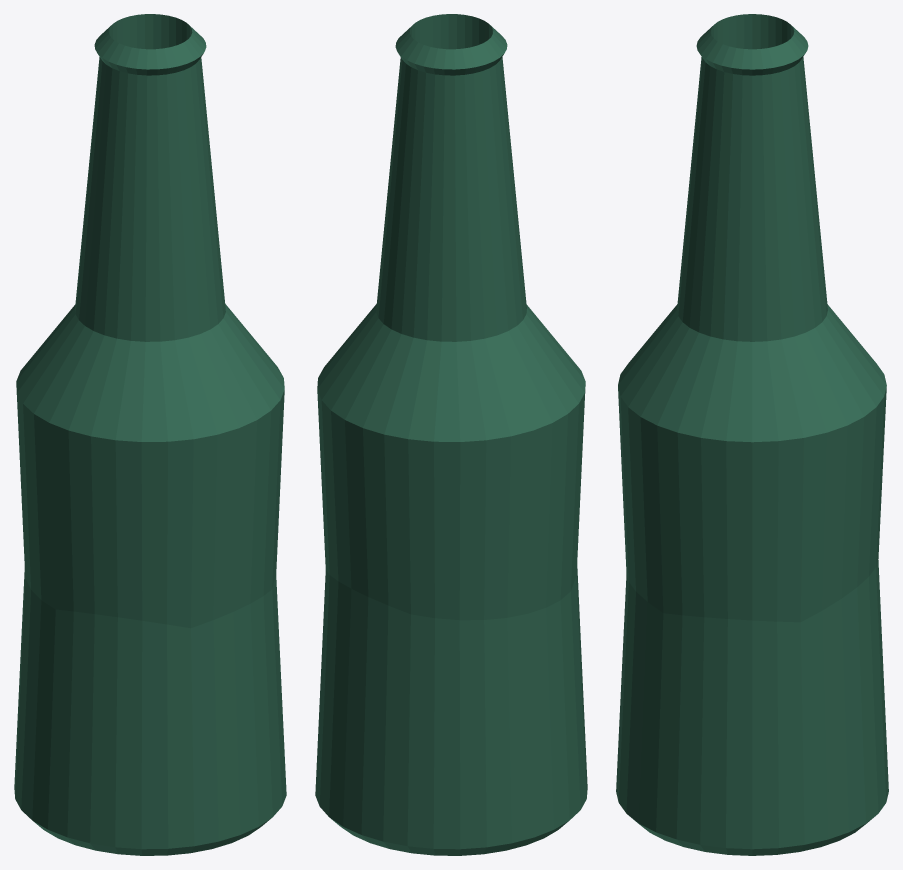
Rendered from Bottle without cap.fbx.
3 views of the same model, side by side, from view 1: azimuth 30°, elevation 25°; view 2: azimuth 150°, elevation 25°; view 3: azimuth 270°, elevation 25° (orthographic).
Parts seen in each view (by area): view 1: Cylinder; view 2: Cylinder; view 3: Cylinder.
Part boxes in pixels (bbox=[...]): Cylinder: bbox=[14, 14, 286, 855]; Cylinder: bbox=[315, 14, 587, 855]; Cylinder: bbox=[616, 14, 888, 855].
Size of the model in its own units: 199 by 622 by 199.
